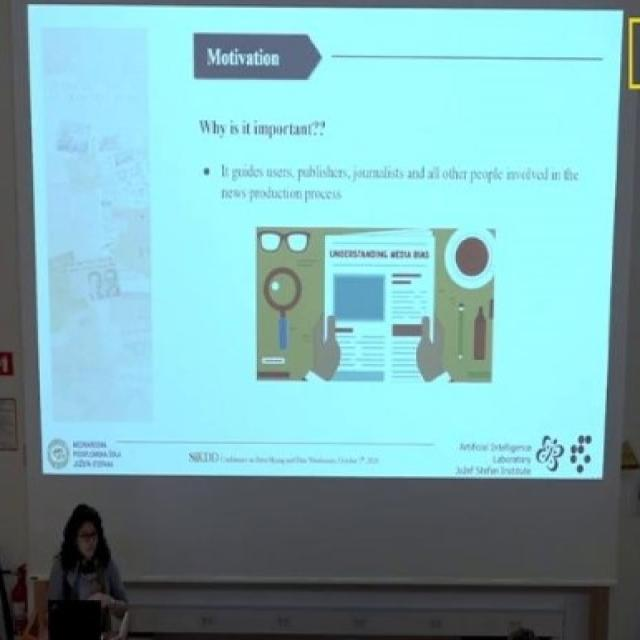Instructor: (35, 491, 129, 640)
Slide: (19, 3, 625, 482)
